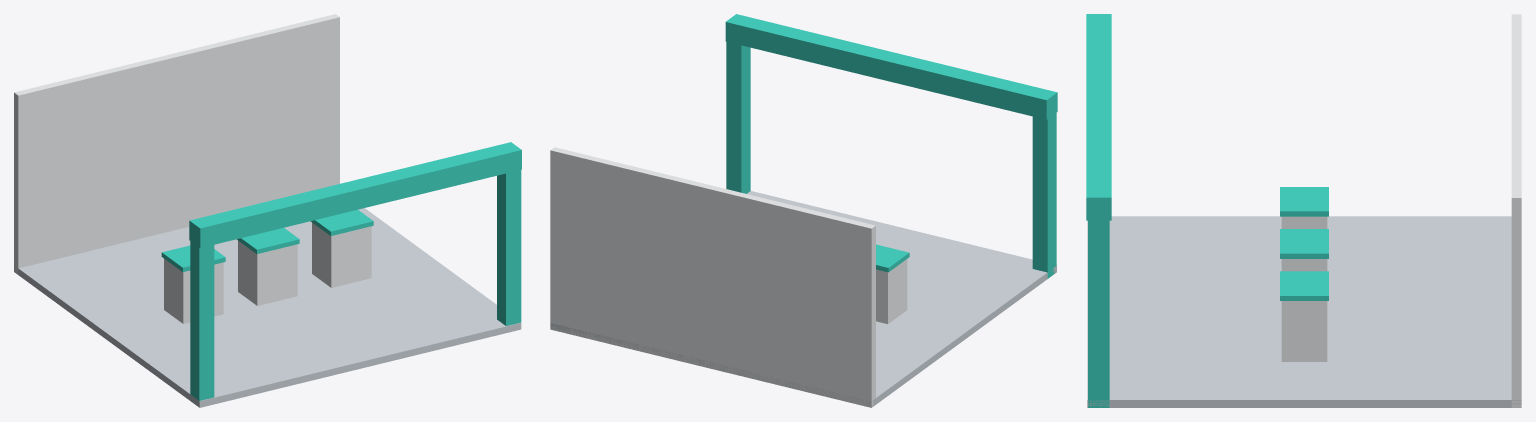
The picture shows the model from 3 angles, left to right: view 1: azimuth 30°, elevation 25°; view 2: azimuth 150°, elevation 25°; view 3: azimuth 270°, elevation 25°; orthographic projection. The views are drawn at different scales.
Visible parts, largest first — view 1: Exhibition Booth Concept; view 2: Exhibition Booth Concept; view 3: Exhibition Booth Concept.
Part boxes in pixels (x1,y1,x2,y2): Exhibition Booth Concept: (14,14,521,407); Exhibition Booth Concept: (550,14,1057,407); Exhibition Booth Concept: (1086,14,1521,407).
Bounding box in the file's own units: 6 × 3.2 × 6.02.
